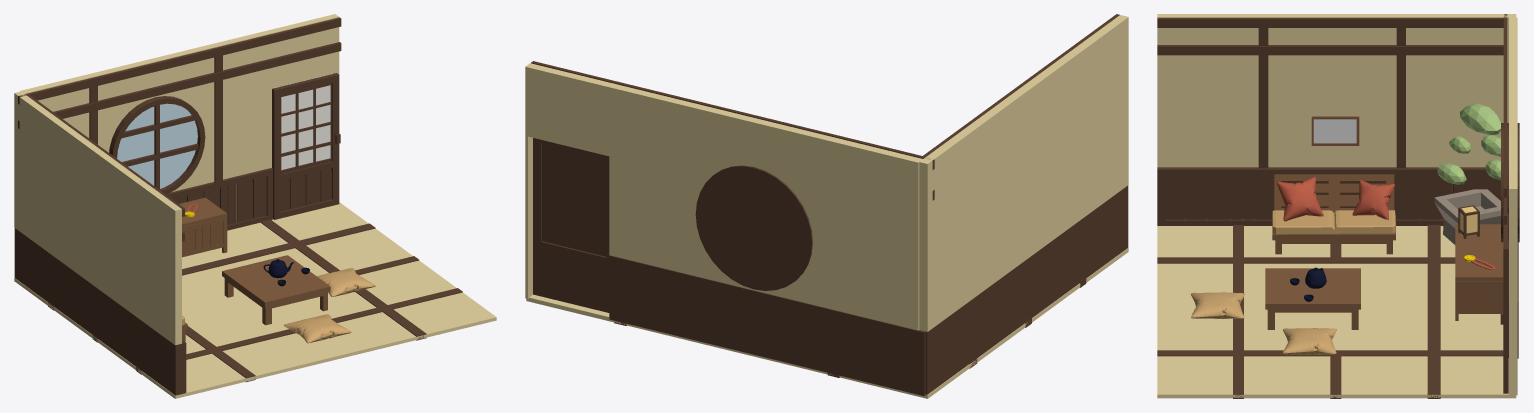
Rendered from sala.glb.
The picture shows the model from 3 angles, left to right: view 1: azimuth 30°, elevation 25°; view 2: azimuth 150°, elevation 25°; view 3: azimuth 270°, elevation 25°; orthographic projection. The views are drawn at different scales.
Visible parts, largest first — view 1: Cube.036, Cube.045, Cube.049, Cube.038, Cube.051, AAA, Cube.001, Cube.046, Cube.053, Cube.039, Cube.052, Cube.044 (+6 smaller); view 2: Cube.049, Cube.045, Cube.053, Cube.051, Cube.038, AAA, Cube.036, Cube.039, Cube.054; view 3: Cube.045, Cube.036, Cube.051, Cube.001, Cube.046, Cube.054, Cube.059, Cube.049, Cube.044, Cube.043, Cube.047, Cube.041 (+19 smaller).
Boxes of the visible parts, x1,y1,x2,y2 form: Cube.036: (14, 202, 496, 398); Cube.045: (14, 91, 181, 345); Cube.049: (20, 14, 339, 221); Cube.038: (272, 73, 339, 219); Cube.051: (14, 228, 186, 395); AAA: (109, 96, 205, 194); Cube.001: (48, 219, 462, 382); Cube.046: (222, 255, 330, 325); Cube.053: (166, 168, 272, 230); Cube.039: (18, 17, 341, 104); Cube.052: (18, 42, 341, 128); Cube.044: (179, 197, 227, 257); Cube.049: (525, 63, 922, 330); Cube.045: (919, 15, 1128, 331); Cube.053: (609, 255, 925, 395); Cube.051: (925, 185, 1128, 395); Cube.038: (533, 138, 609, 312); AAA: (695, 165, 812, 290); Cube.036: (526, 247, 1128, 398); Cube.039: (531, 61, 934, 169); Cube.054: (921, 14, 1119, 158); Cube.045: (1157, 14, 1516, 167); Cube.036: (1157, 226, 1516, 398); Cube.051: (1157, 167, 1500, 225); Cube.001: (1157, 225, 1503, 398); Cube.046: (1265, 268, 1360, 329); Cube.054: (1157, 17, 1506, 27); Cube.059: (1157, 45, 1503, 55); Cube.049: (1509, 17, 1517, 395); Cube.044: (1455, 250, 1503, 320); Cube.043: (1272, 210, 1395, 234); Cube.047: (1274, 174, 1394, 212); Cube.041: (1434, 189, 1500, 244).
Size of the model in its own units: 13.19 by 7.6 by 11.54.
